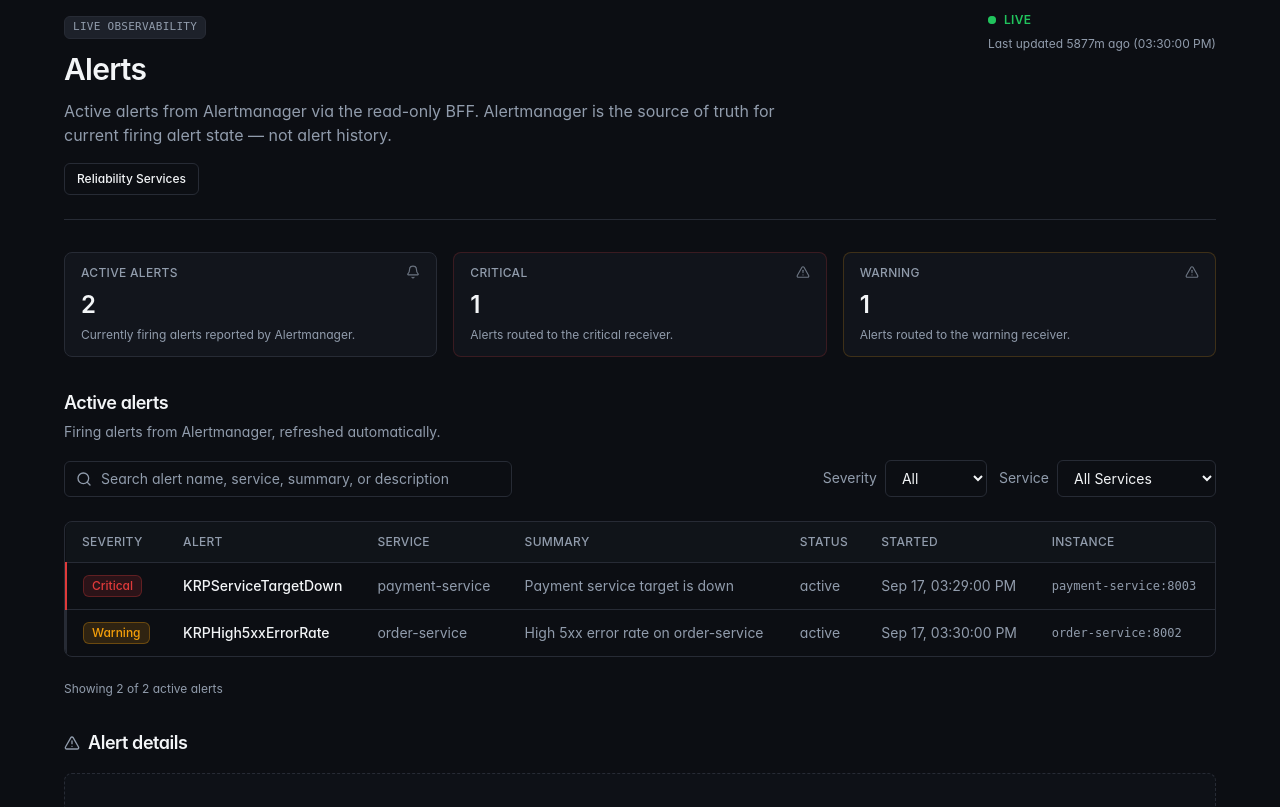
Test: AlertsPage › filters alerts locally by search query
Expected: the text "KRPHigh5xxErrorRate" is shown, [167,609,361,656]
Step 1. Type "payment" into the field named "Search alerts" → (288, 479), box [64,461,512,497]
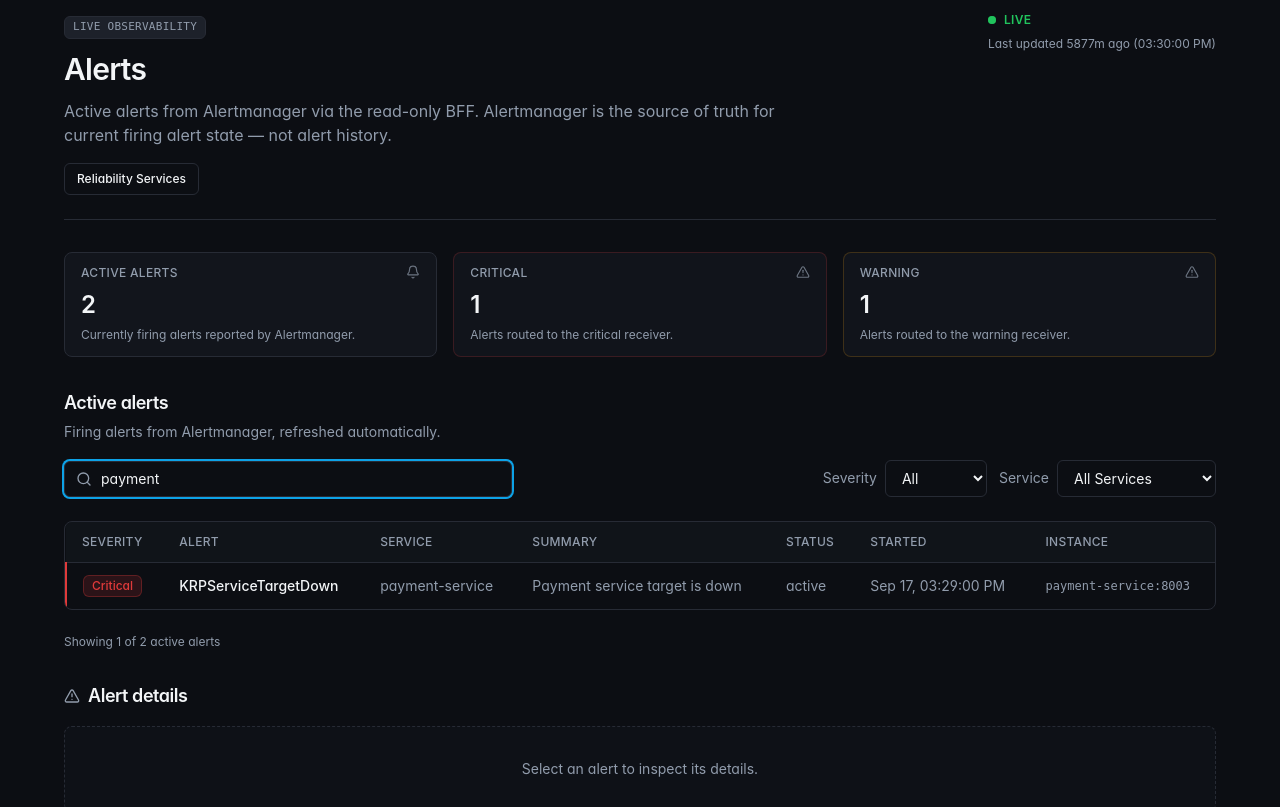
Expected: the text "KRPServiceTargetDown" is shown, [163,562,364,609]
Now the text "KRPHigh5xxErrorRate" is gone
